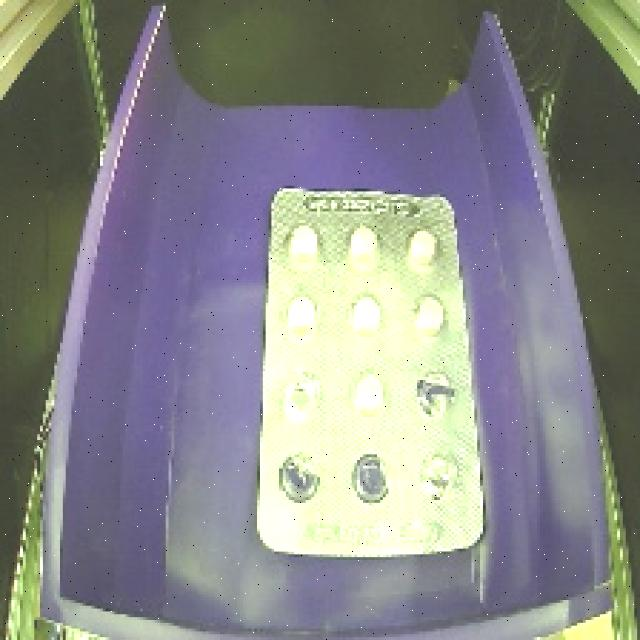med_plate: (248, 173, 494, 574)
